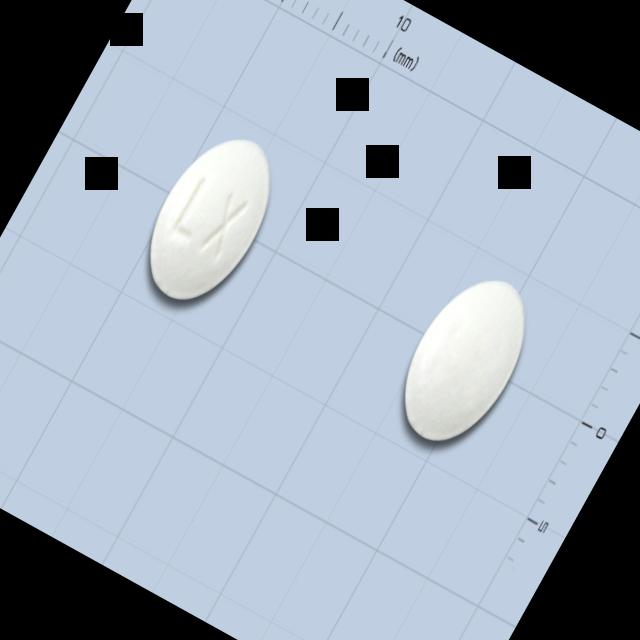Levoxacin -250mg: (125, 118, 296, 322)
